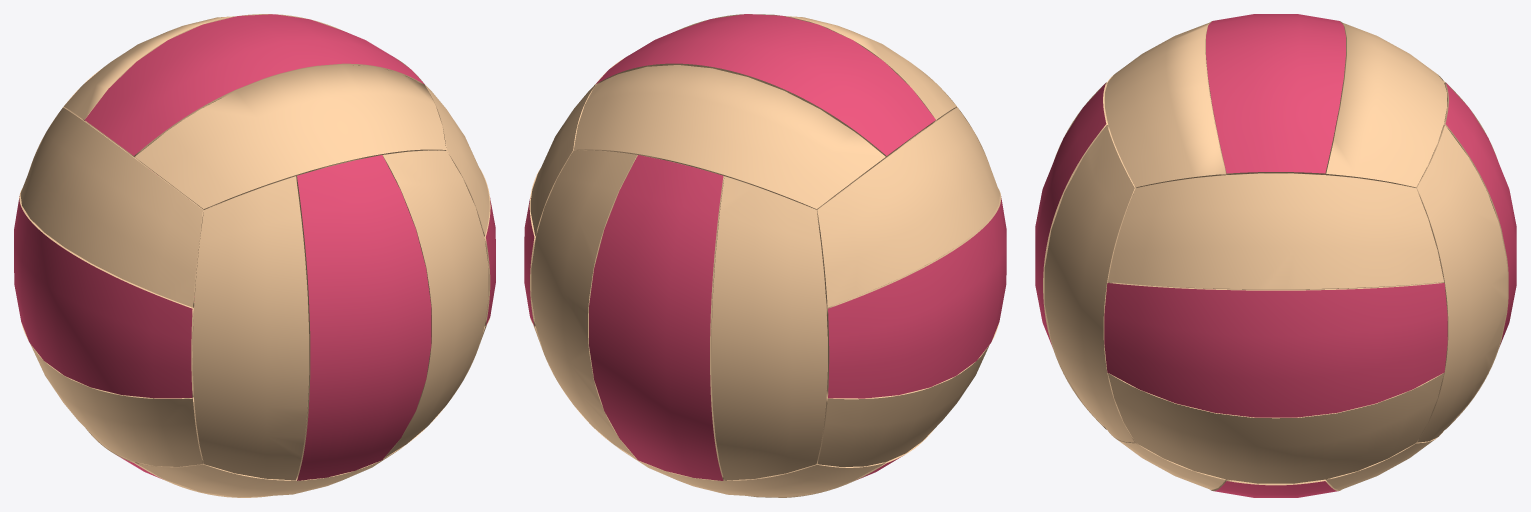
Rendered from ToyObject_114.fbx.
3 views of the same model, side by side, from view 1: azimuth 30°, elevation 25°; view 2: azimuth 150°, elevation 25°; view 3: azimuth 270°, elevation 25° (orthographic).
Visible parts, largest first — view 1: 1.055; view 2: 1.055; view 3: 1.055.
Part boxes in pixels (x1,y1,x2,y2): 1.055: (14,14,495,497); 1.055: (524,14,1006,497); 1.055: (1035,14,1516,497).
Size of the model in its own units: 0.1406 by 0.1406 by 0.1406.
